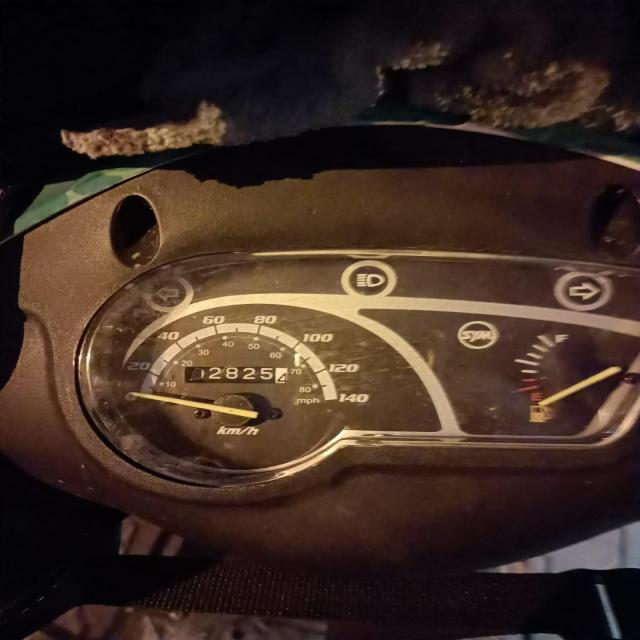odometer: (183, 366, 288, 384)
